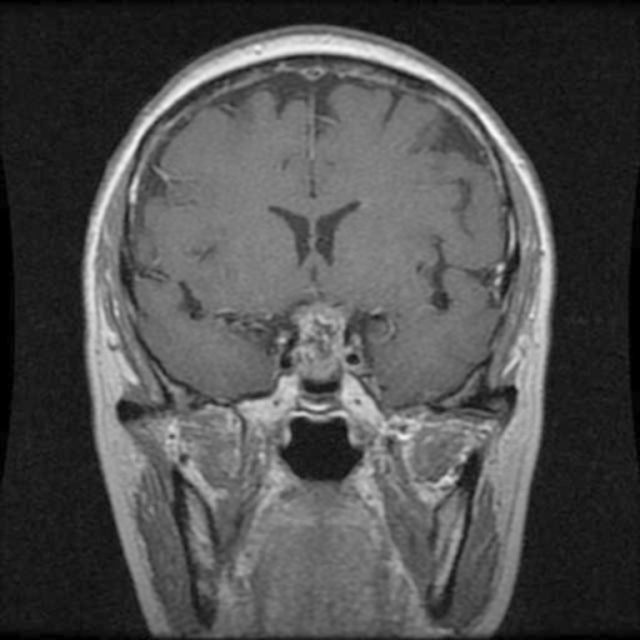no tumor: (288, 305, 358, 385)
